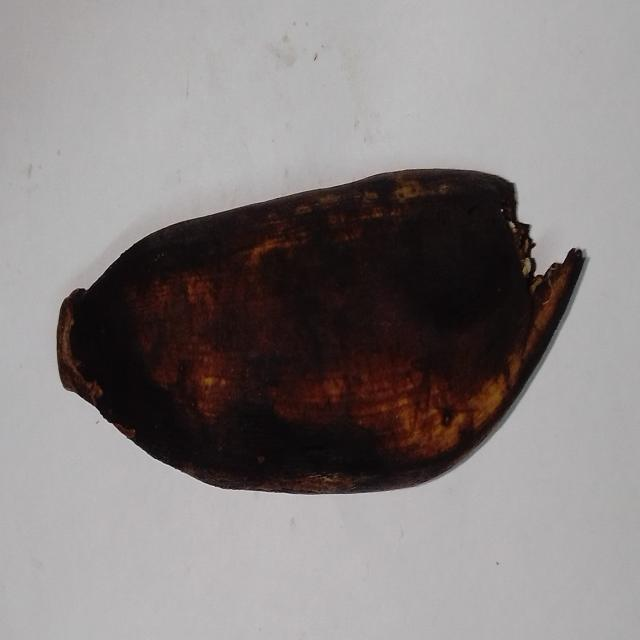banana: (58, 170, 583, 492)
